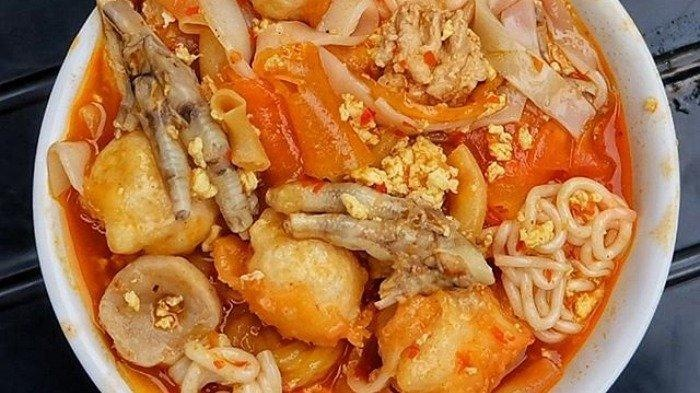seblak: (50, 1, 637, 393)
